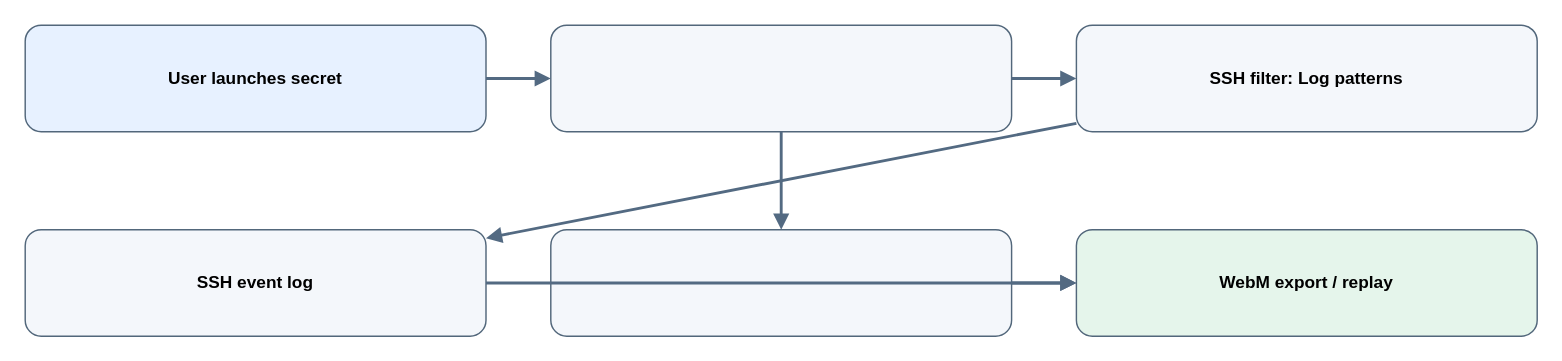
The diagram is 1562 pixels wide and 361 high, and some of its shapes have lost their labels. The shapes that lost their labels are listed below. From the top down, each one's centre as x and y in pixels, then its label:
At (780,78): "Session recording enabled".
At (780,282): "Live video stream".
